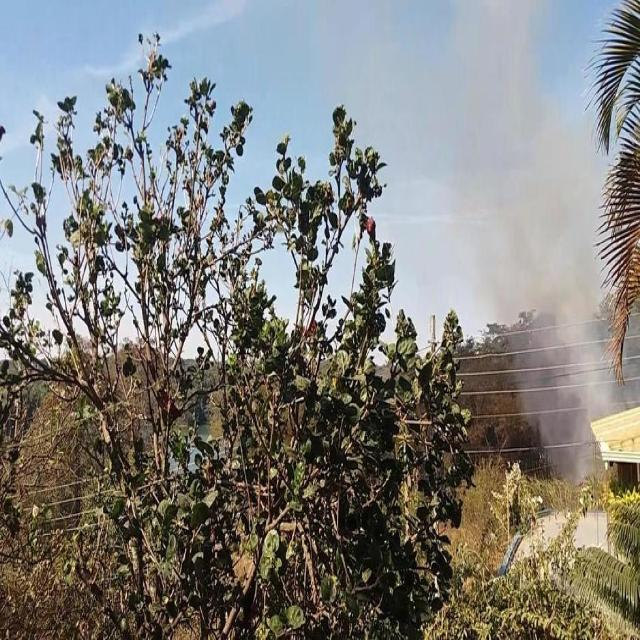Smoke: (453, 11, 636, 470)
